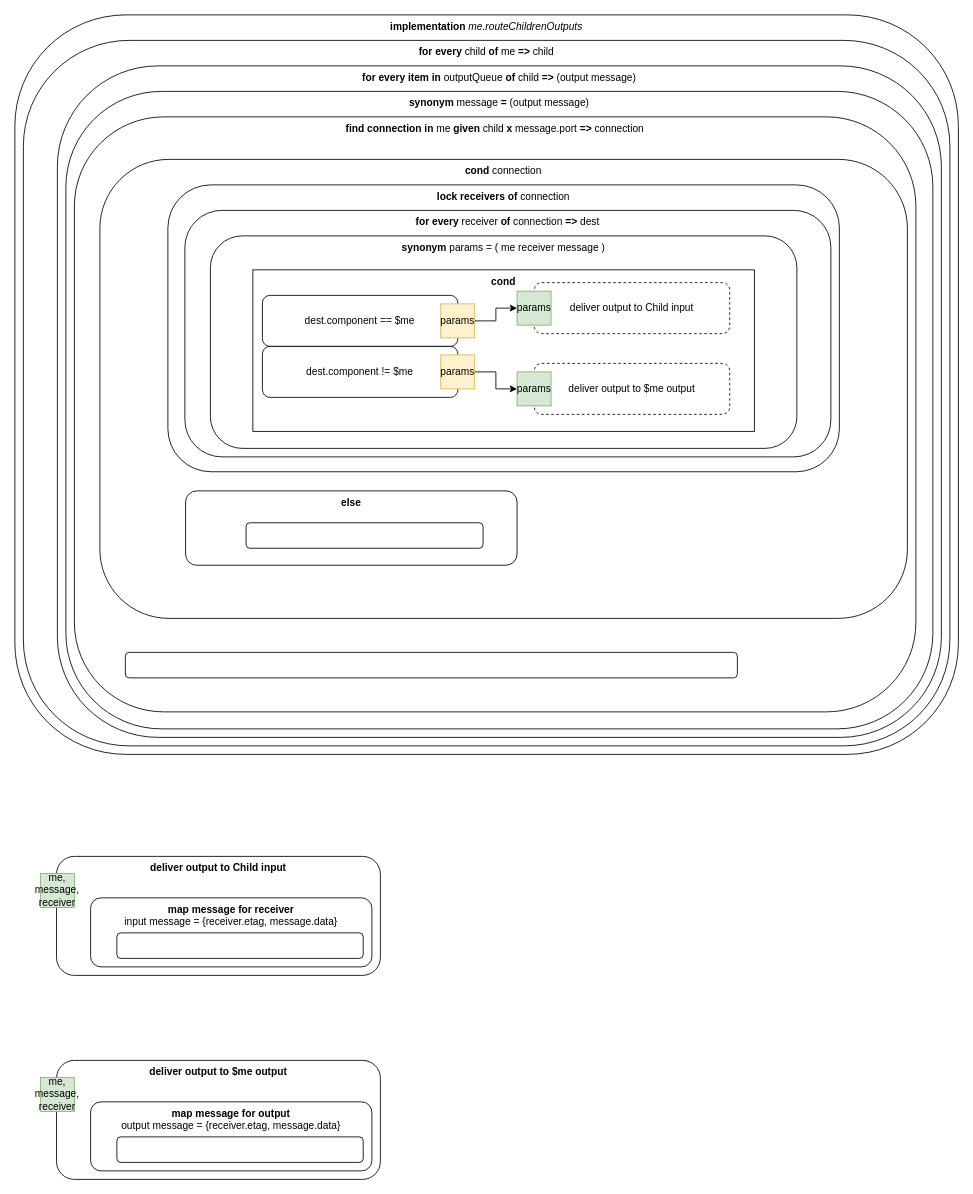
This 973x1194 diagram has some shape labels left out. Here are the shapes that lost their labels. From the top down, the centre of each, then its label:
At point 364,535: "drop message".
At point 431,665: "child.resetOutputQueue ()".
At point 239,945: "receiver.enqueInputMessage (input message)".
At point 239,1149: "me.enqueOutputMessage (output message)".
